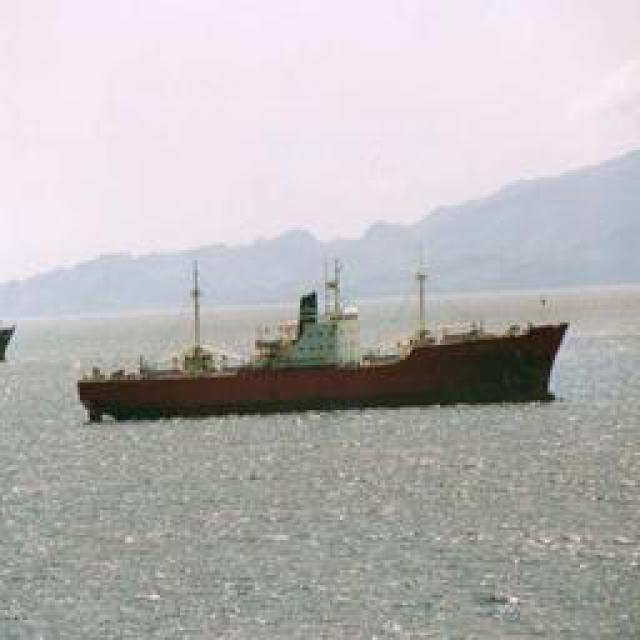Ship: (74, 317, 579, 417)
